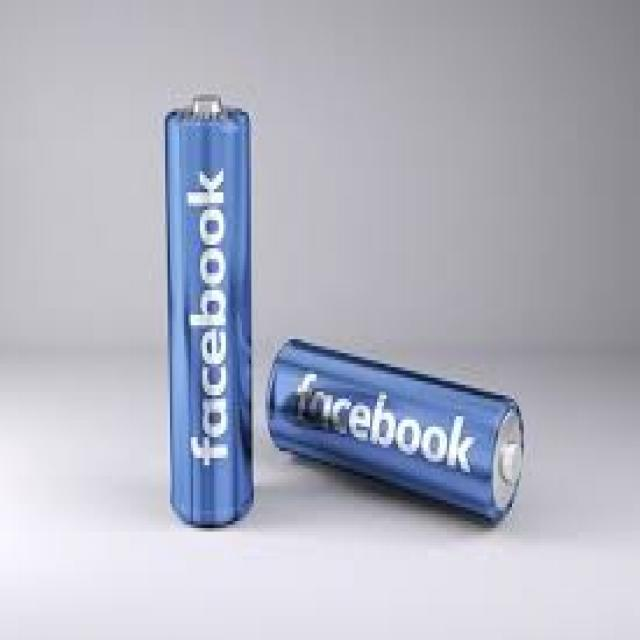non-organic waste: (266, 336, 530, 530), (167, 93, 253, 531)
